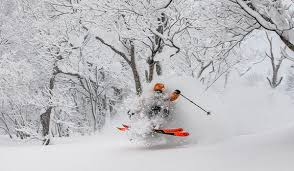skis: (117, 123, 187, 136)
